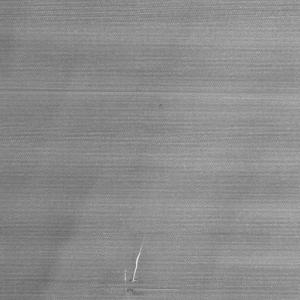Wrinkle: (1, 24, 300, 114), (11, 147, 117, 300), (188, 255, 300, 280)
